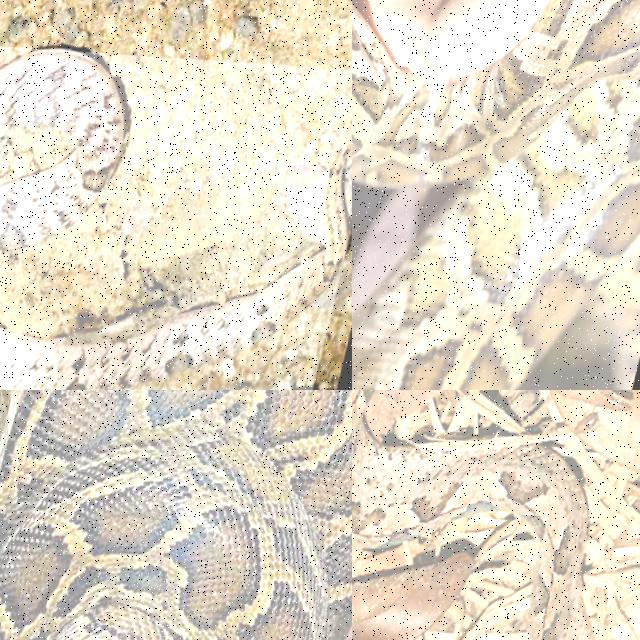Calloselasma rhodostoma: (0, 117, 351, 389), (352, 390, 593, 639)
Python bivittatus: (352, 0, 639, 389), (0, 390, 351, 639)
snake: (352, 0, 639, 389), (0, 117, 351, 389), (0, 390, 351, 639), (352, 390, 593, 639)
